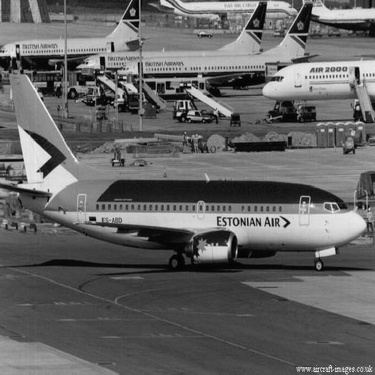airplane: (3, 59, 369, 289), (68, 1, 273, 93), (115, 5, 324, 92), (2, 1, 157, 75), (260, 40, 372, 117), (141, 3, 318, 44), (303, 1, 372, 40)
